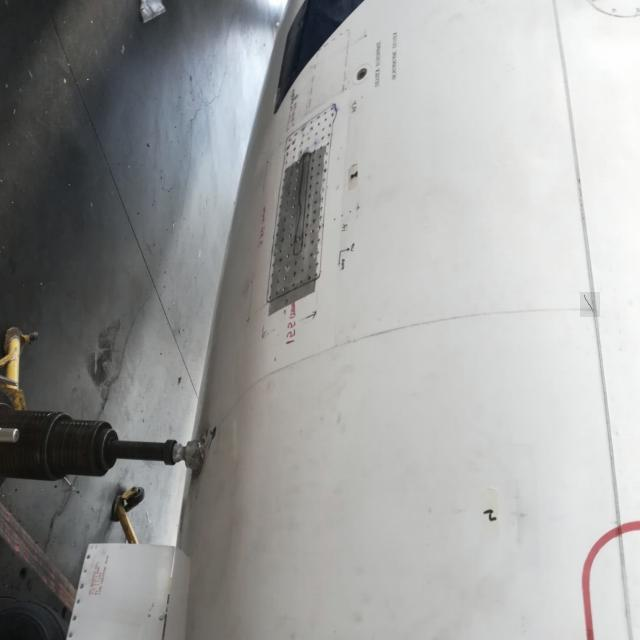crack: (581, 293, 602, 318)
